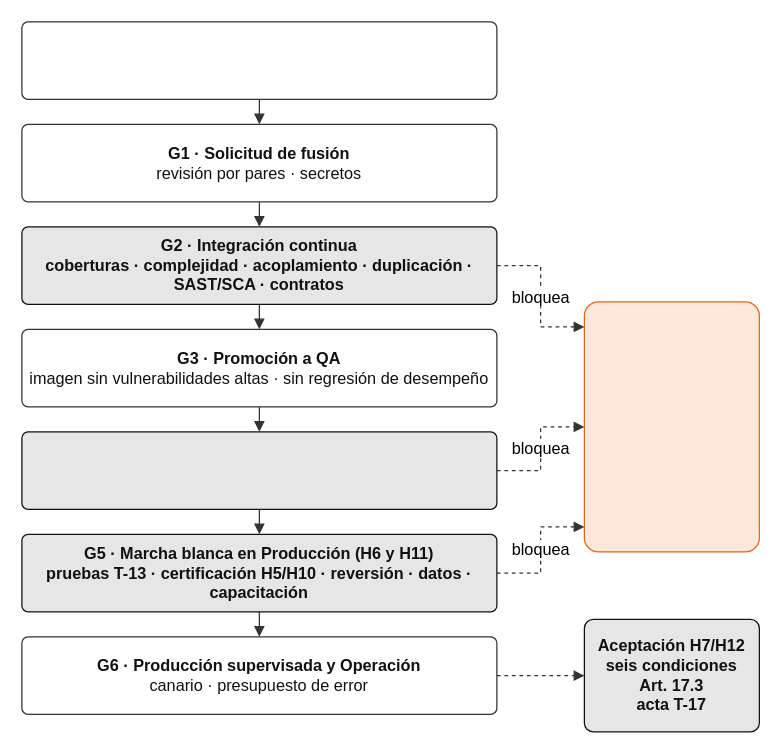
This 781x754 diagram has some shape labels left out. Each missing label, with the centre of its shape:
"Cambio rechazado vuelve al autor" goes at pixel 671 426.
"G0 · Compromiso local formato y pruebas del módulo" goes at pixel 259 60.
"G4 · Promoción a Preproducción regresión · DAST · WCAG" goes at pixel 259 470.
